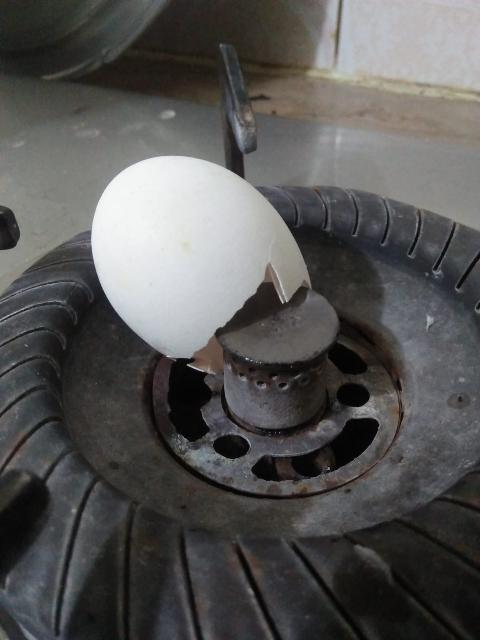Roto: (90, 154, 312, 360)
